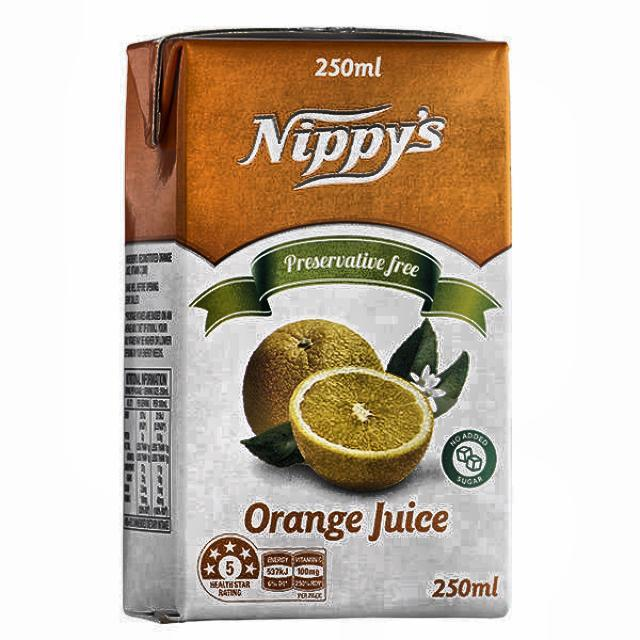cardboard: (121, 28, 512, 623)
